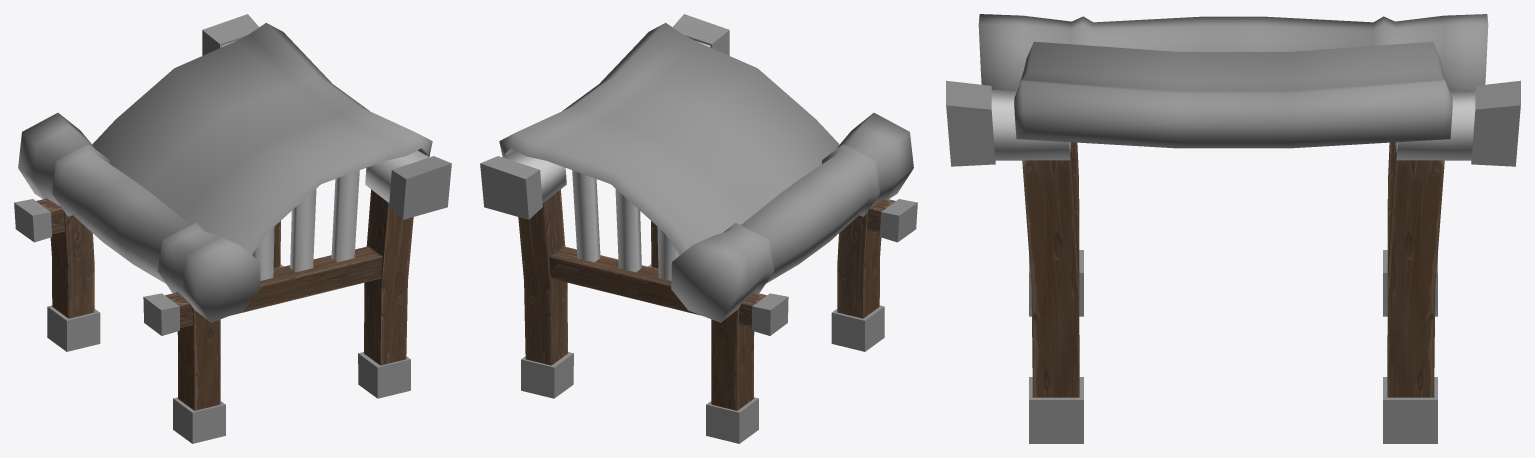
The model's file is cs_zhucheng_zhangpeng_002.FBX.
3 views of the same model, side by side, from view 1: azimuth 30°, elevation 25°; view 2: azimuth 150°, elevation 25°; view 3: azimuth 270°, elevation 25° (orthographic). The views are drawn at different scales.
Parts seen in each view (by area): view 1: cs_zhucheng_zhangpeng_002; view 2: cs_zhucheng_zhangpeng_002; view 3: cs_zhucheng_zhangpeng_002.
Part boxes in pixels (bbox=[...]): cs_zhucheng_zhangpeng_002: bbox=[14, 14, 451, 443]; cs_zhucheng_zhangpeng_002: bbox=[480, 14, 917, 443]; cs_zhucheng_zhangpeng_002: bbox=[946, 14, 1520, 443].
Size of the model in its own units: 612 by 800 by 560.
